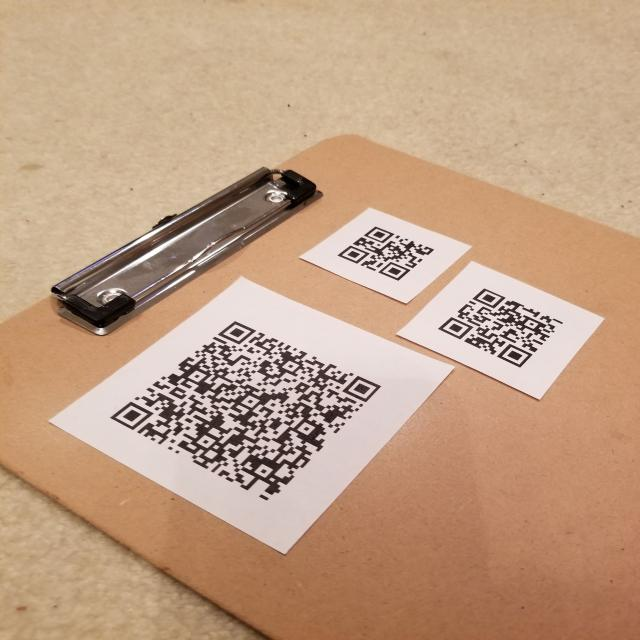QRCode: (86, 311, 410, 512), (430, 278, 577, 376), (330, 213, 448, 287)
